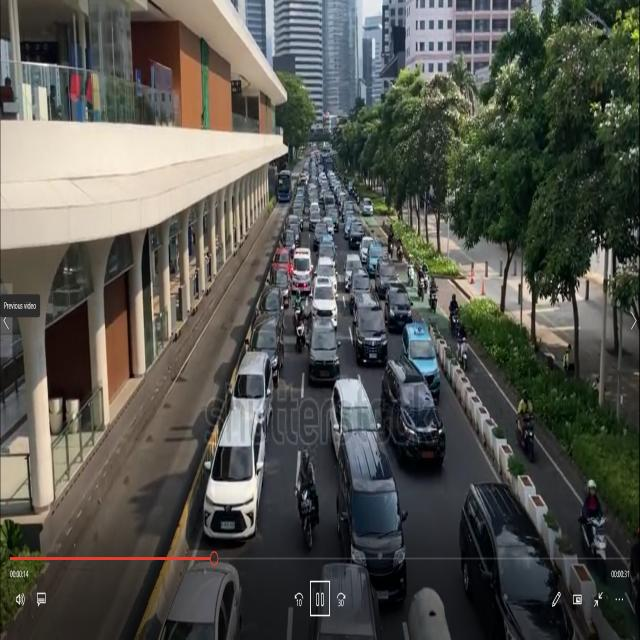Ambulance: (292, 242, 316, 304)
